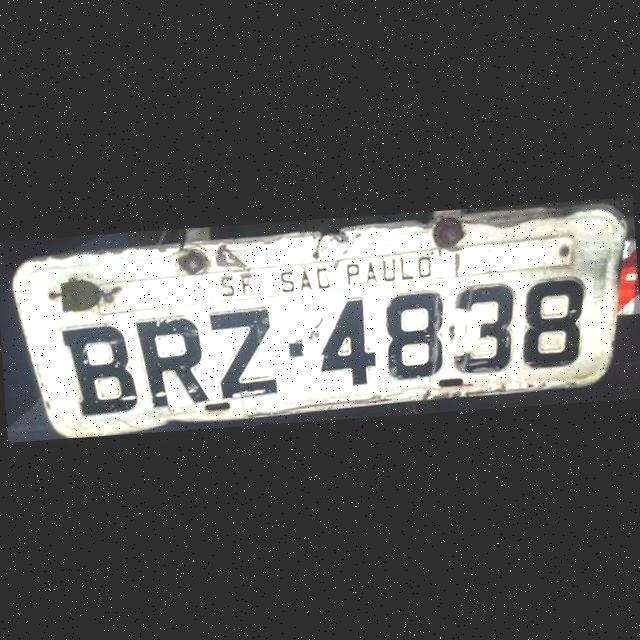Caractere: (58, 318, 144, 418), (132, 309, 211, 412), (202, 300, 278, 402), (516, 273, 592, 370), (377, 285, 449, 382), (451, 277, 523, 374), (312, 293, 379, 388)
Placa: (10, 200, 640, 442)
